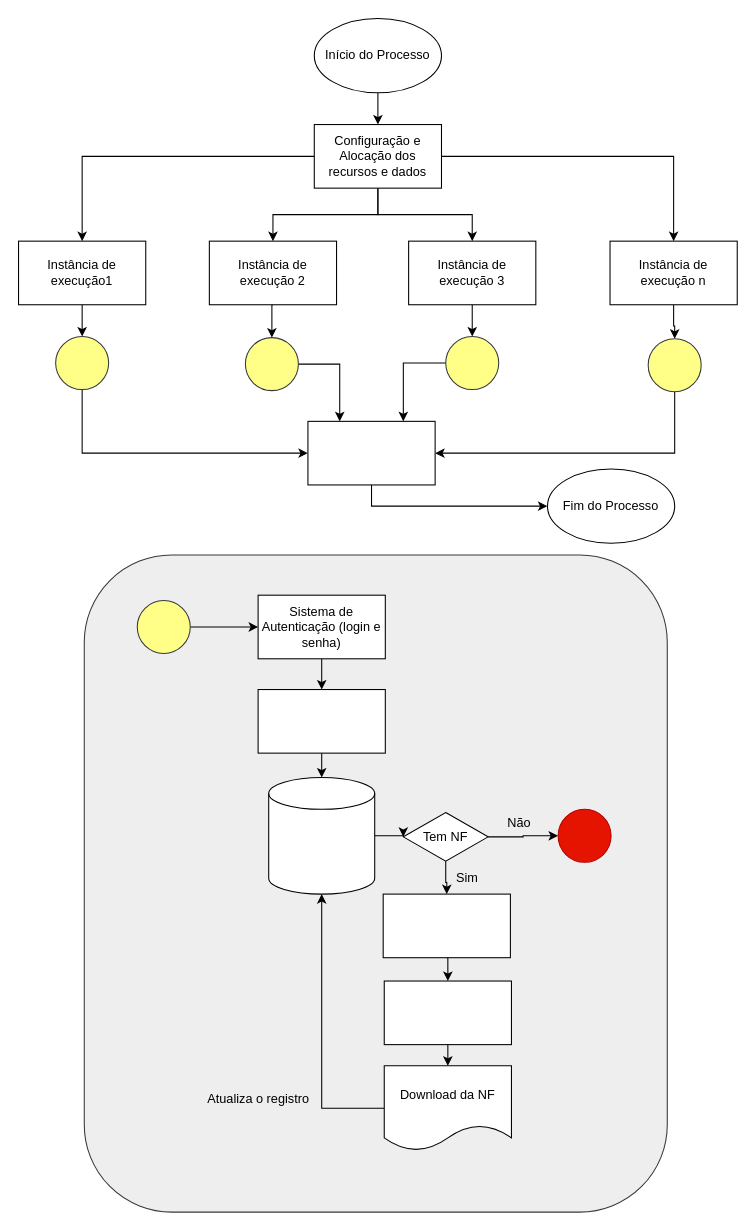
Image size: 756x1231. Some labels were removed from this diagram. The shapes that lost their labels are listed below. From the top down, each one's box as (x1, y1, x2, y2) in pixels, then its label:
(307, 420, 435, 485): Sincronização das instâncias
(257, 688, 385, 753): Carregar estado da execução anterior
(268, 776, 375, 894): BD: NOTAS (Local)
(382, 893, 510, 958): Consulta Nota Fiscal
(383, 980, 511, 1045): Extrai Informações da página
